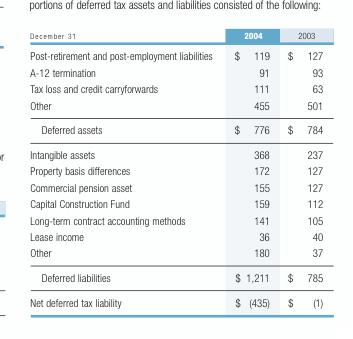table: (29, 29, 322, 307)
table column: (29, 29, 222, 307), (222, 29, 277, 307), (277, 29, 322, 307)
table column header: (29, 29, 322, 44)
table row: (29, 264, 322, 289), (29, 117, 322, 141), (29, 96, 322, 117), (29, 141, 322, 162), (29, 244, 322, 264), (29, 44, 322, 63), (29, 289, 322, 307), (29, 63, 322, 80), (29, 178, 322, 195), (29, 227, 322, 244), (29, 80, 322, 96), (29, 162, 322, 178), (29, 195, 322, 211), (29, 211, 322, 227), (29, 29, 322, 44)
